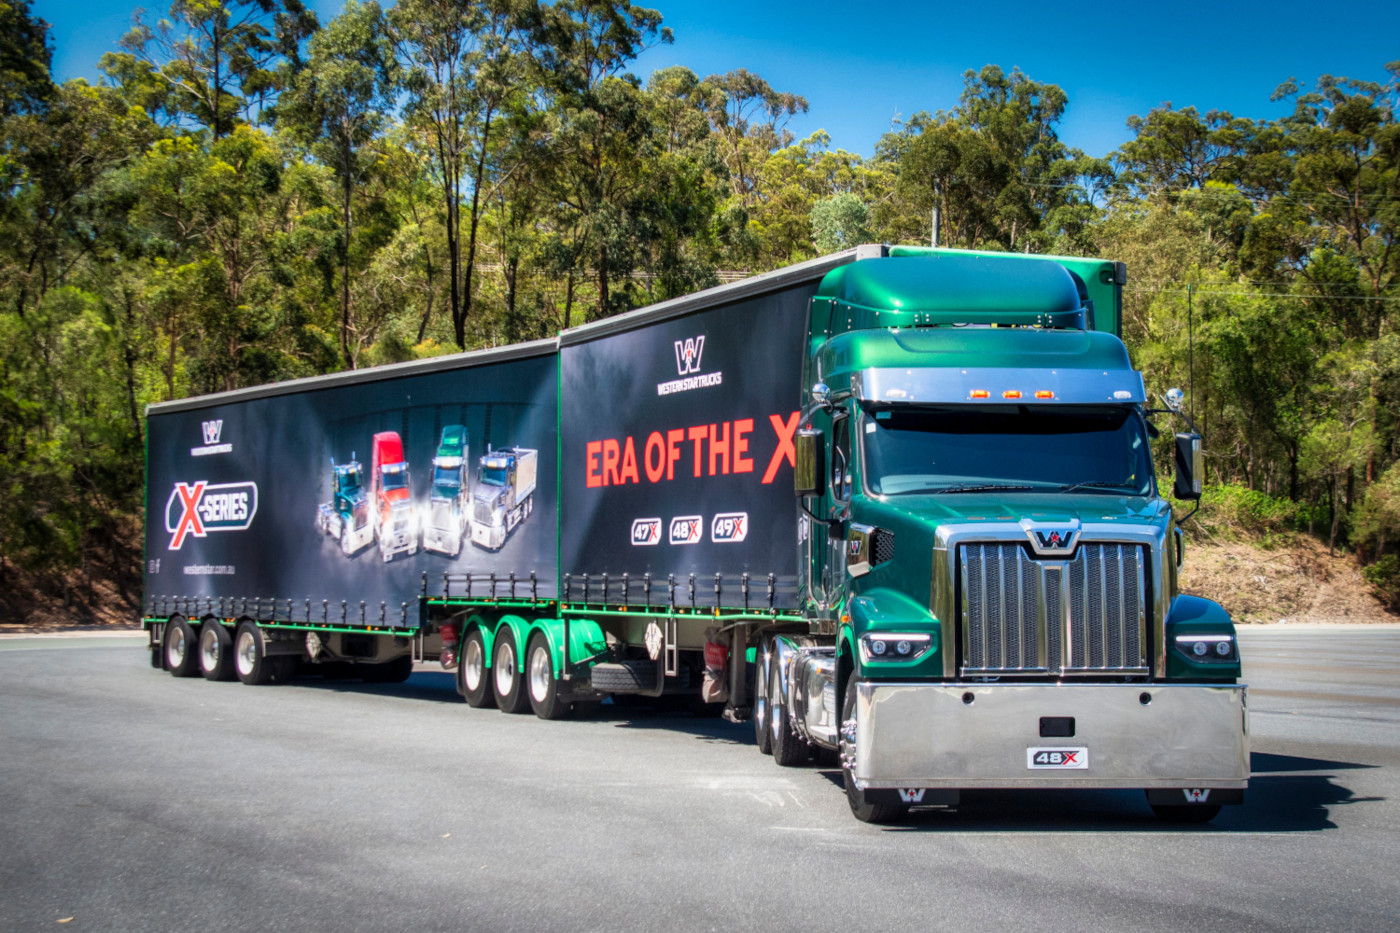truck: (134, 242, 1253, 825)
